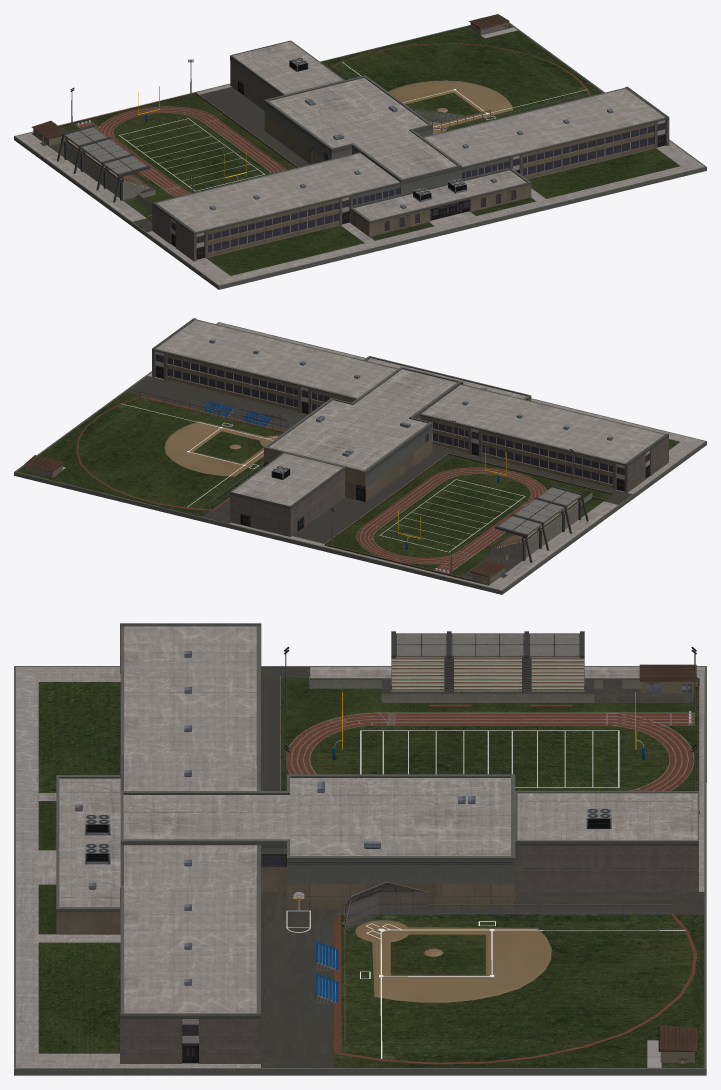
Rendered from school.glb.
3 renders of one model, top to bottom at view 1: azimuth 30°, elevation 25°; view 2: azimuth 150°, elevation 25°; view 3: azimuth 270°, elevation 25°, orthographic. The views are drawn at different scales.
Visible parts, largest first — view 1: school; view 2: school; view 3: school.
Part boxes in pixels (x1,y1,x2,y2): school: (14, 14, 706, 289); school: (14, 318, 706, 594); school: (14, 623, 706, 1075).
Bounding box in the file's own units: 156 × 12.46 × 113.
1 material, 1 textured.
